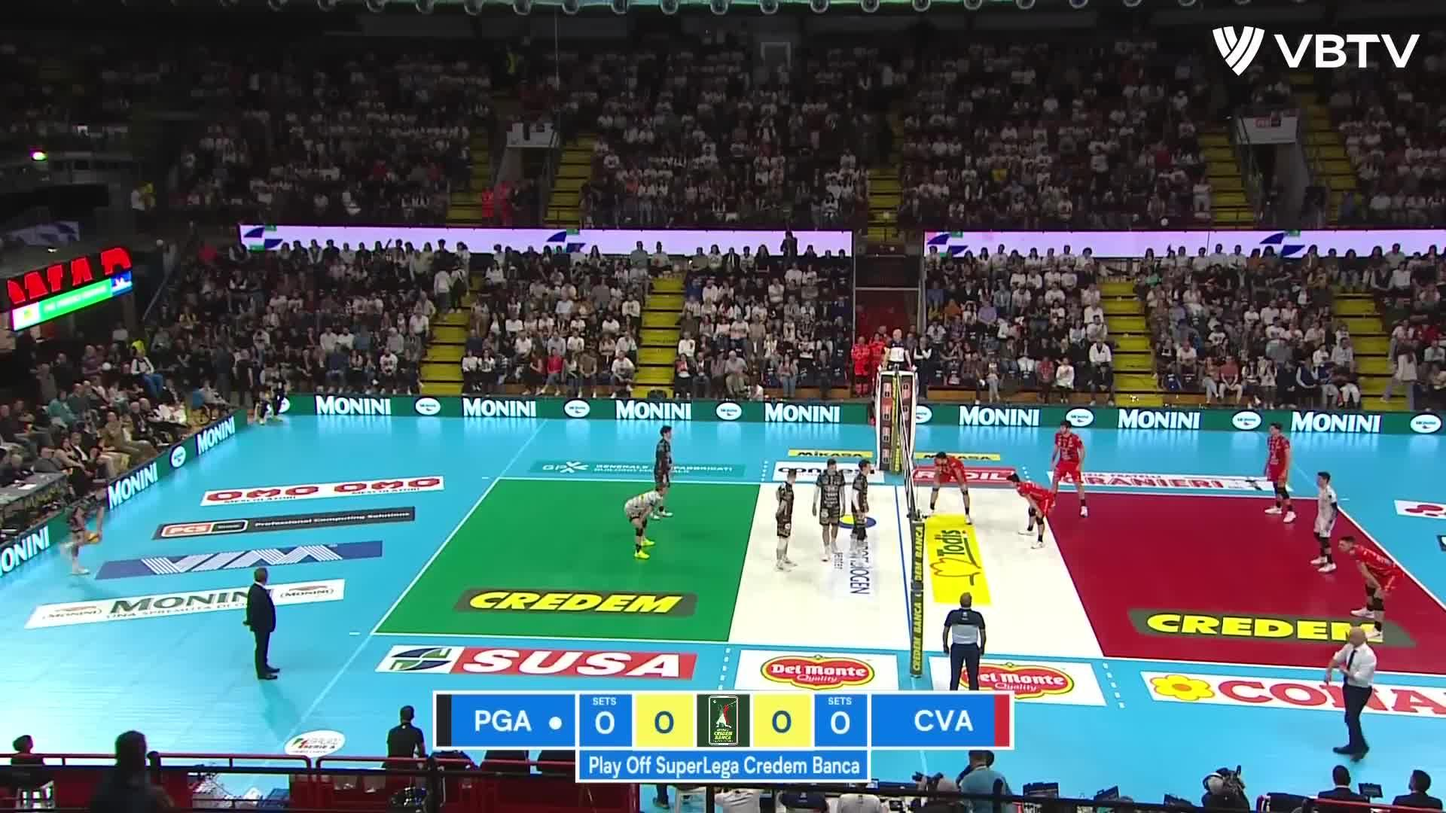balls: (87, 531, 102, 544)
